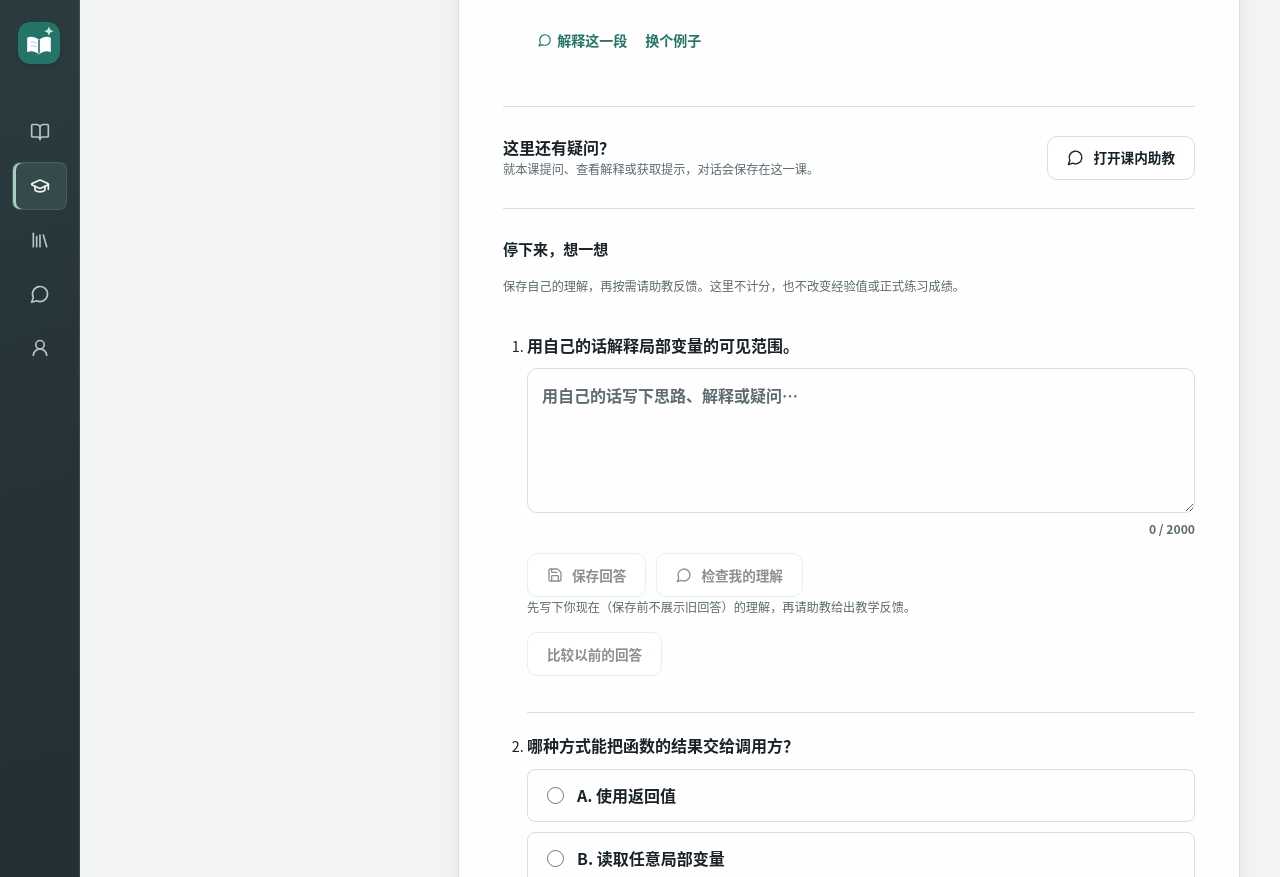
Test case: saved self checks and teaching feedback › checks an unknown save before retrying the identical request, even after the draft changes
(page scrolled)
Type "原回答" into the text box named "填写你的理解" at (861, 441), box [527,368,1195,513]
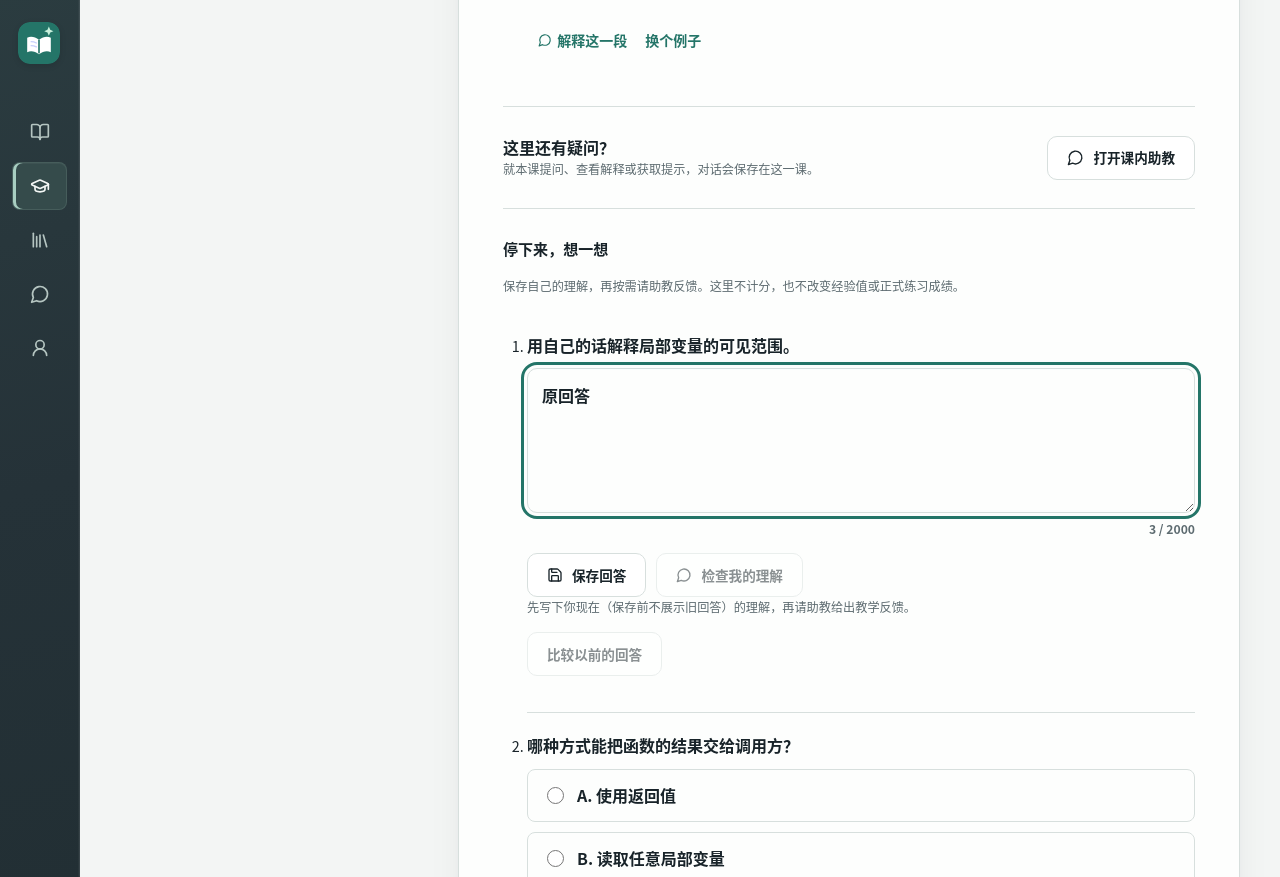
Click the button "保存回答" at (587, 576), box [527,554,646,598]
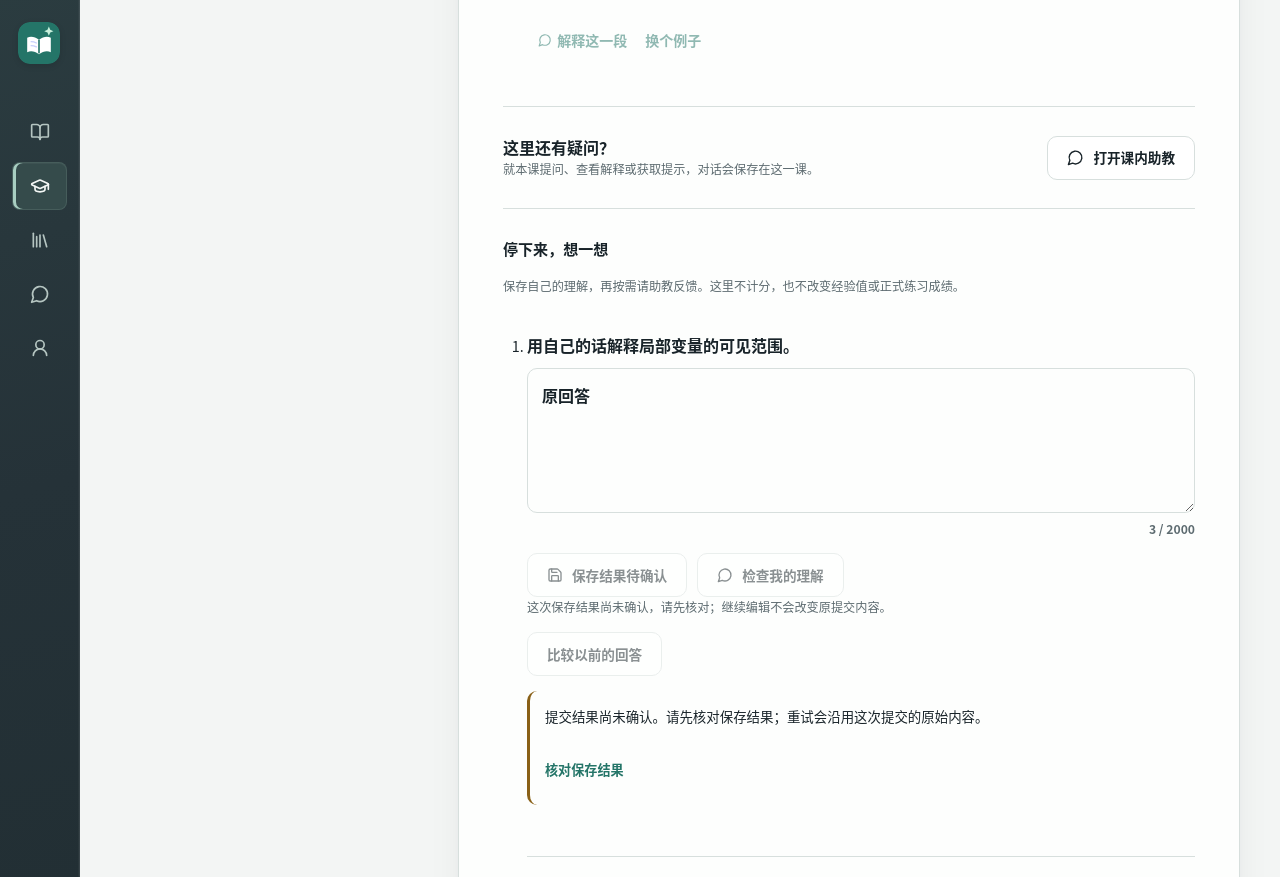
expect the text "提交结果尚未确认。请先核对保存结果；重试会沿用这次提交的原始内容。" is shown: met, box [545,706,988,726]
Replace the text in the text box named "填写你的理解" with "后来修改的草稿" at (861, 441), box [527,368,1195,513]
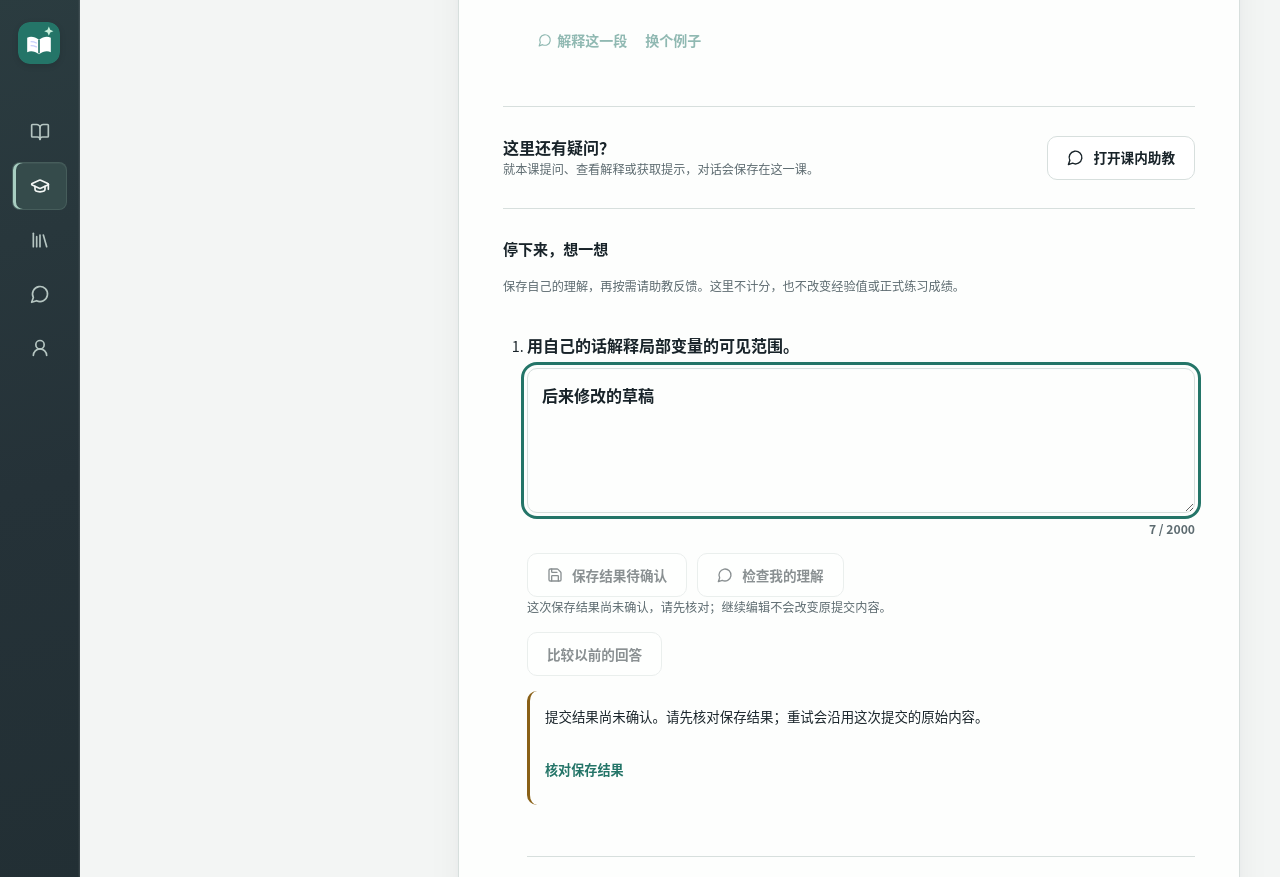
Click the button "核对保存结果" at (584, 769), box [545,748,1180,792]
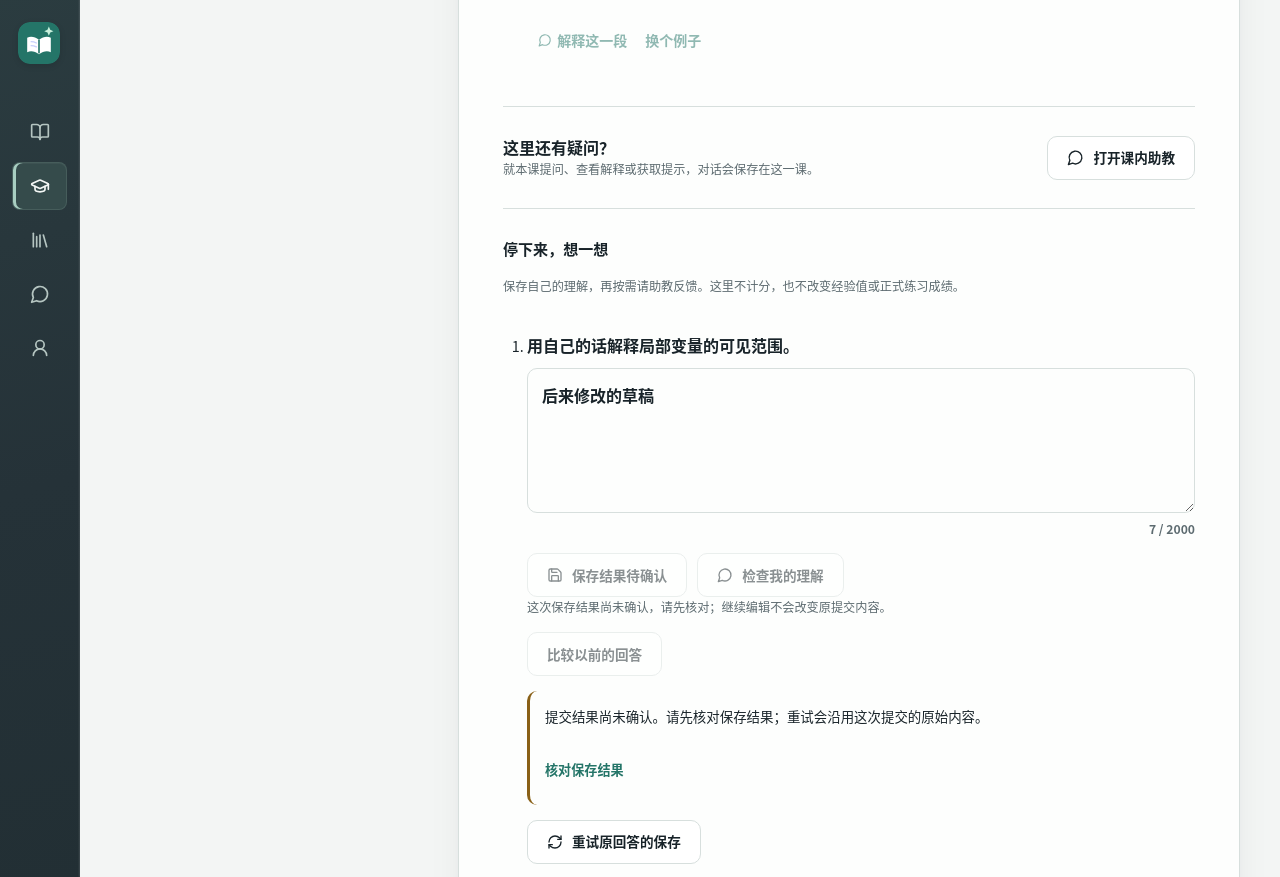
Click the button "重试原回答的保存" at (614, 842), box [527,820,701,864]
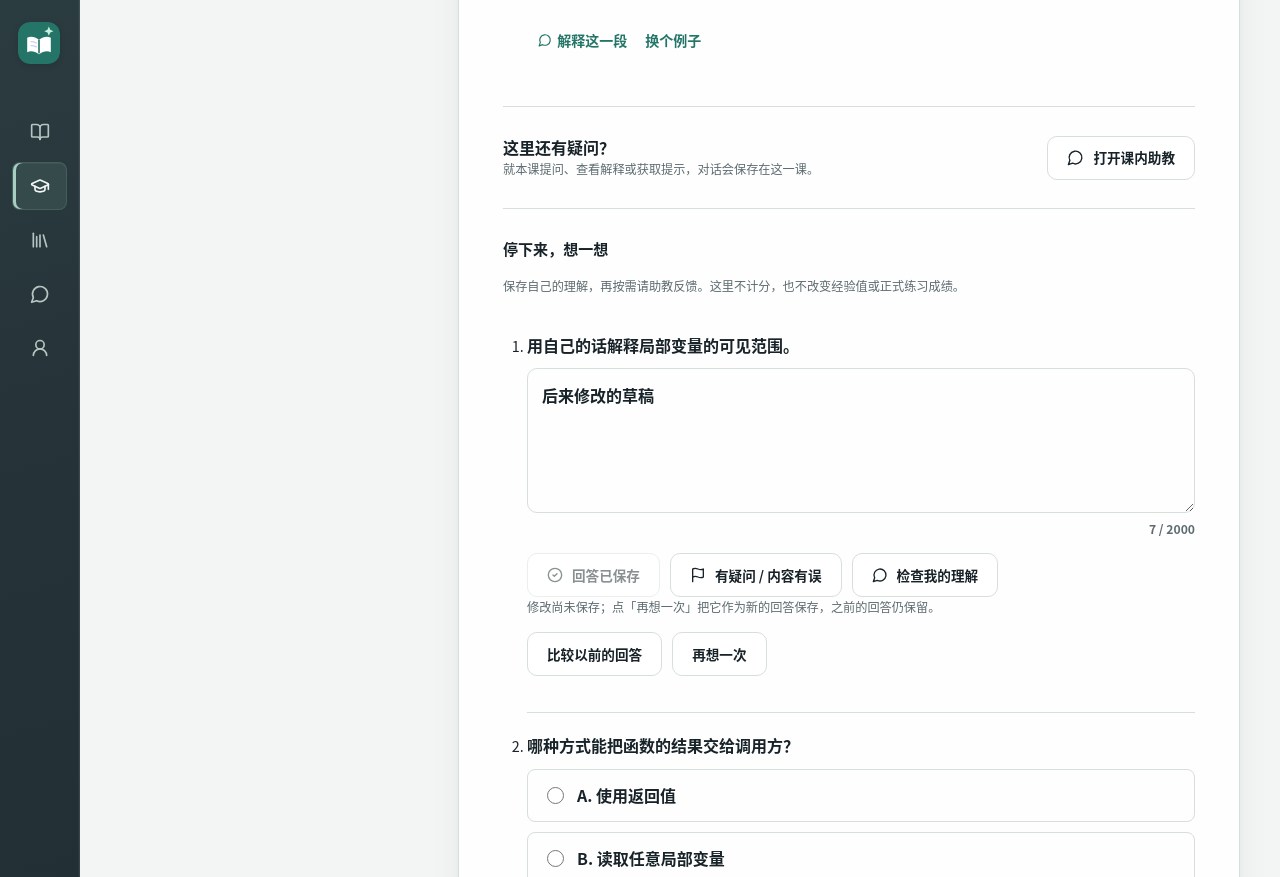
expect the text "修改尚未保存；点「再想一次」把它作为新的回答保存，之前的回答仍保留。" is shown: met, box [527,598,940,616]
